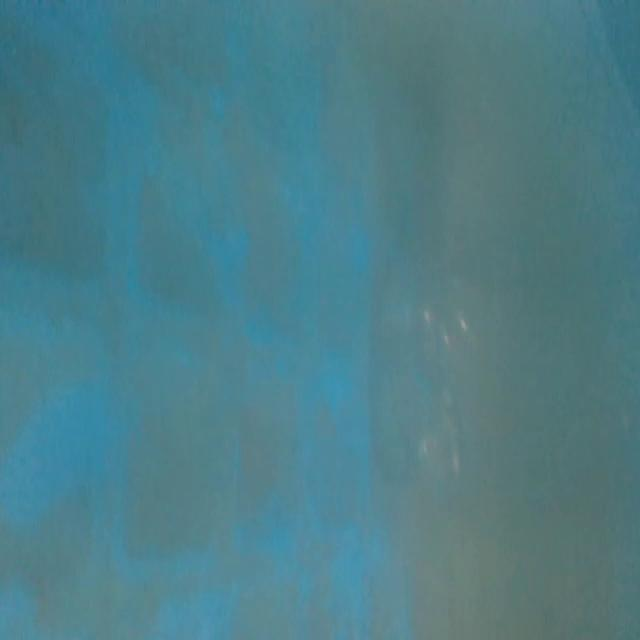plastic bottle: (376, 209, 530, 540)
